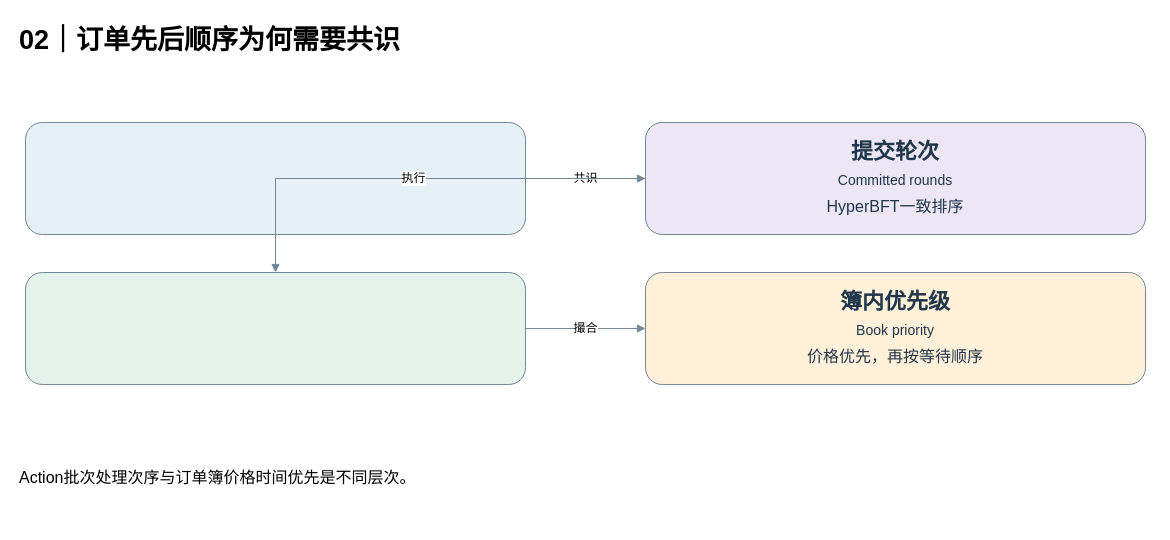
The diagram is 1170 pixels wide and 540 high, and some of its shapes have lost their labels. The centre of each missing label's shape, as x and y in pixels:
"批次类别排序 Batch categories 非GTC/IOC操作 → 撤单 → GTC/IOC" goes at point (275, 328).
"验证者权重 Validator stake quorum按质押计算" goes at point (275, 178).
